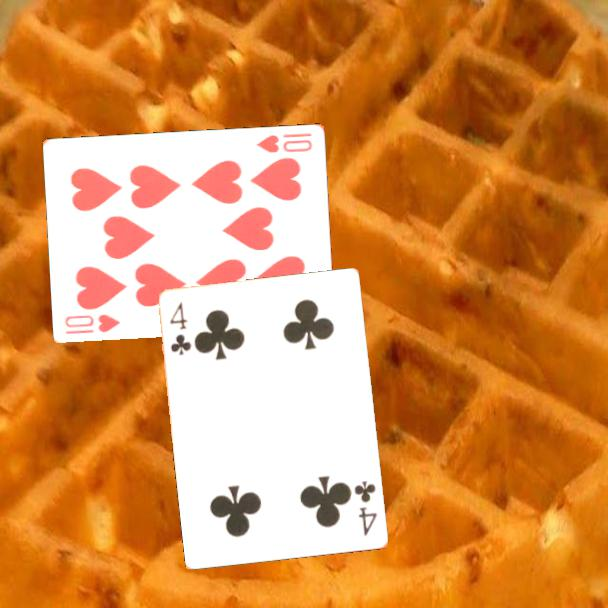c04: (351, 478, 380, 539), (167, 299, 194, 358)
h10: (254, 129, 315, 155), (62, 310, 123, 336)
